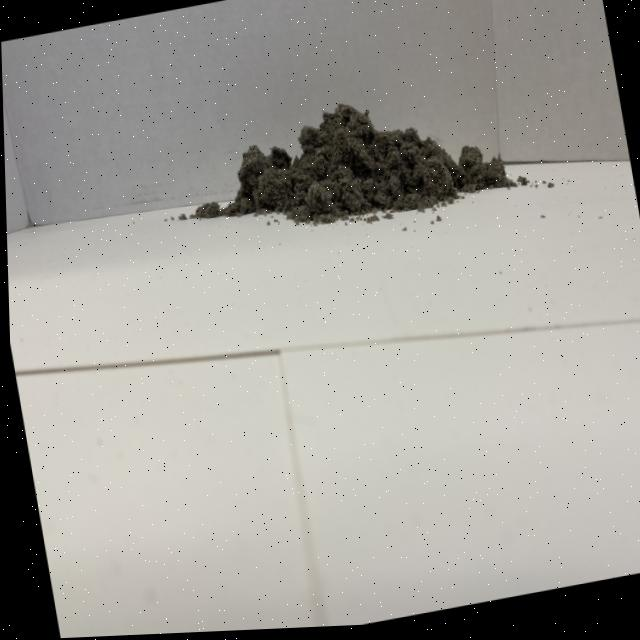sand: (219, 61, 496, 249)
